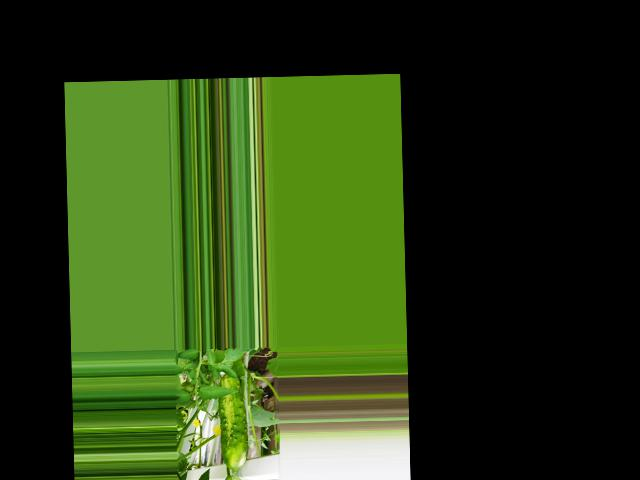cucumber: (219, 374, 248, 470)
